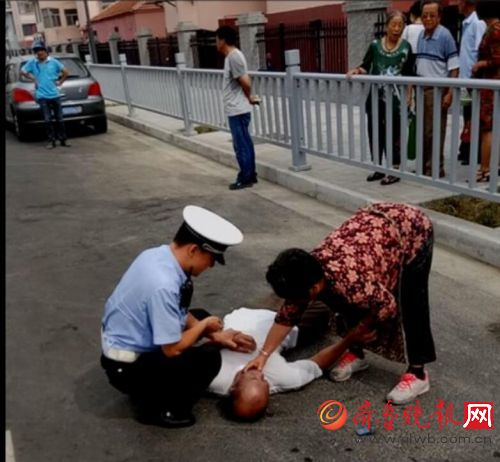fall: (188, 290, 357, 421)
